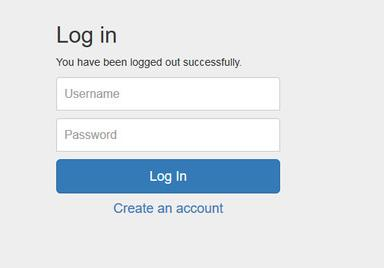button: (54, 157, 282, 195)
field: (55, 76, 282, 112), (55, 118, 282, 153)
